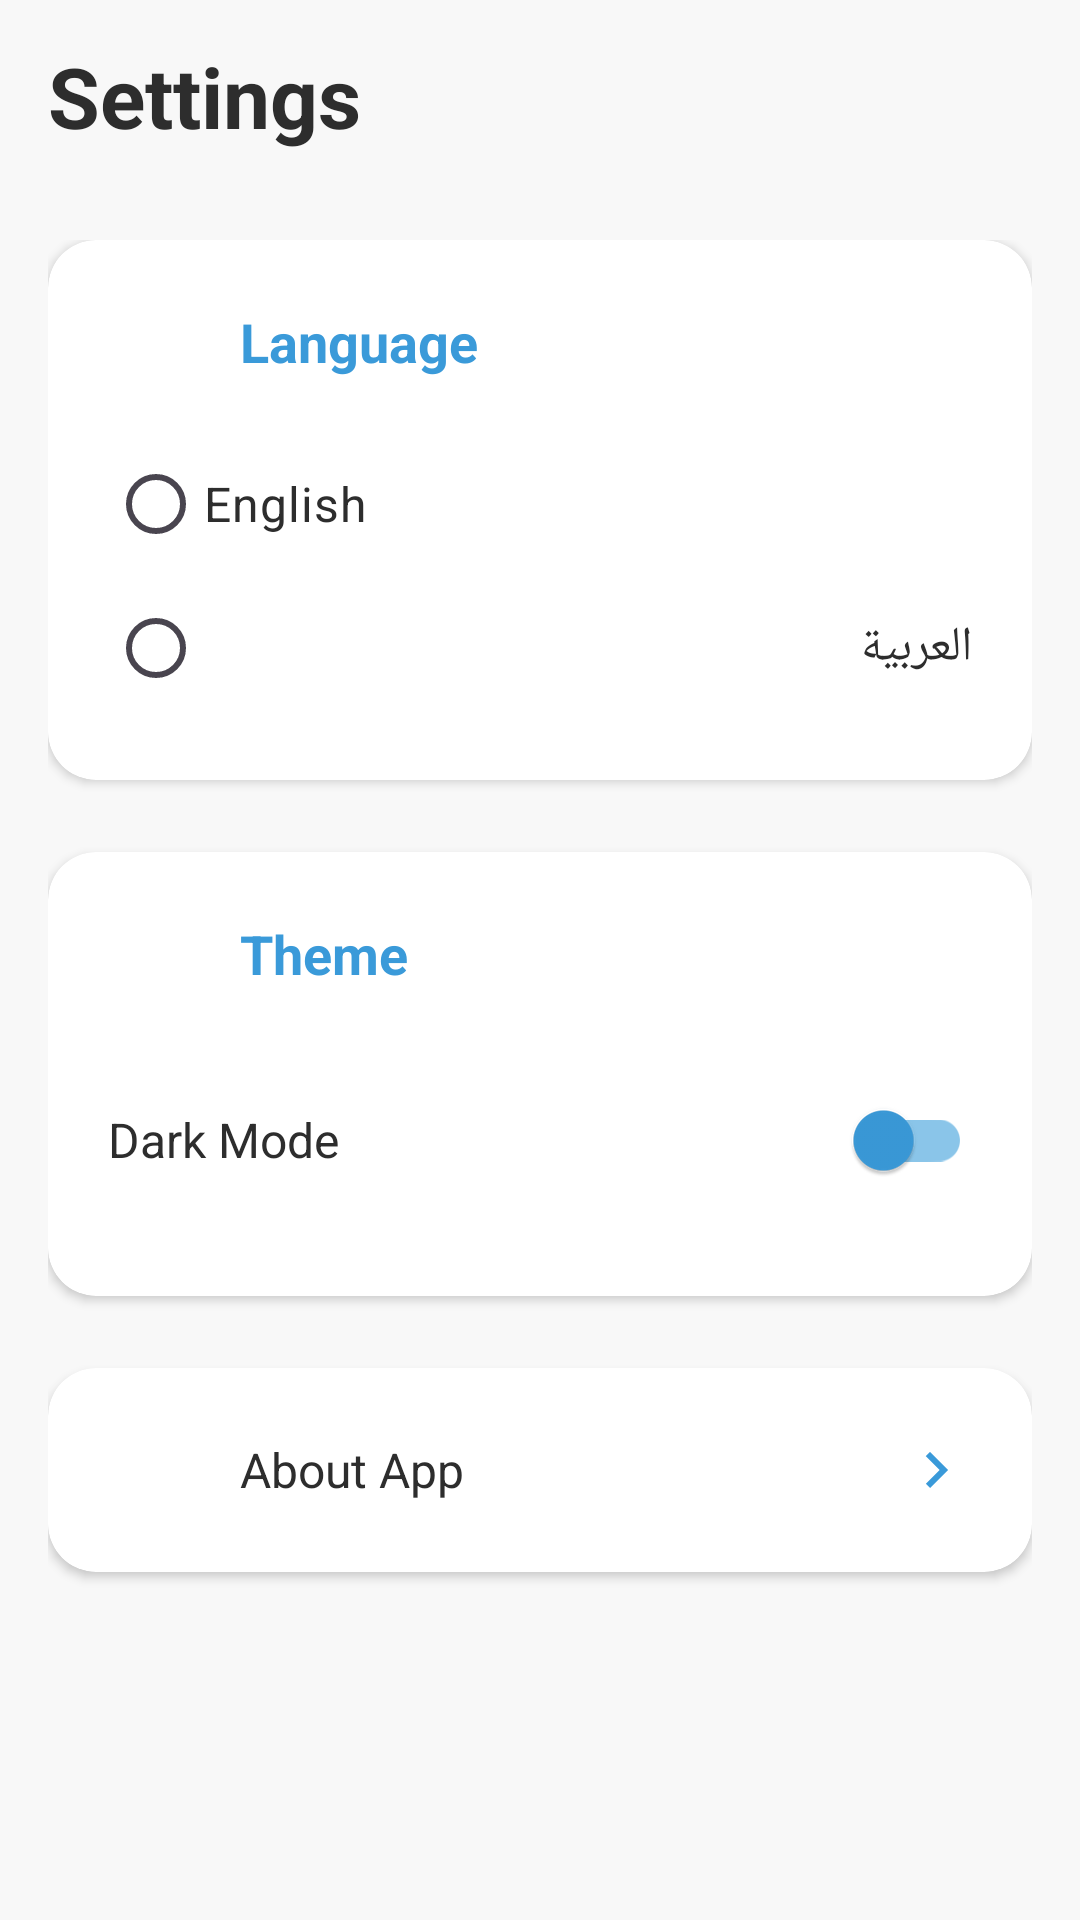

Locate icon controls on the screen. Image size 1080 × 1920, boxes as {"left": x1, "top": y1, "right": x2, "bottom": y2}.
Arrow Right: {"left": 926, "top": 1452, "right": 948, "bottom": 1488}
